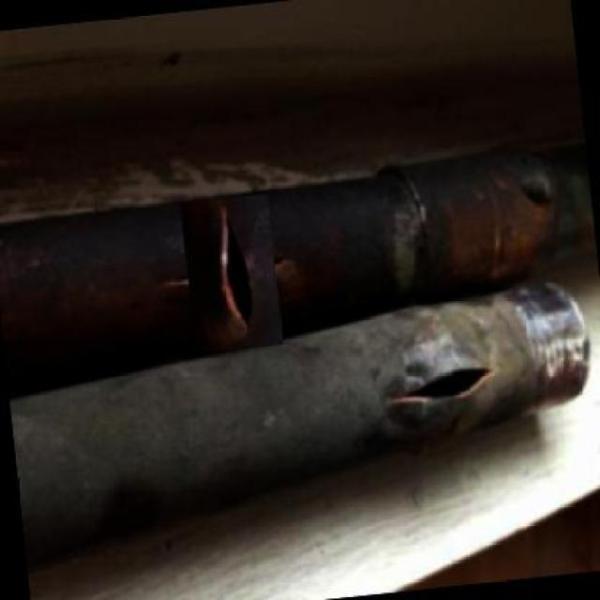crack: (196, 206, 600, 510)
